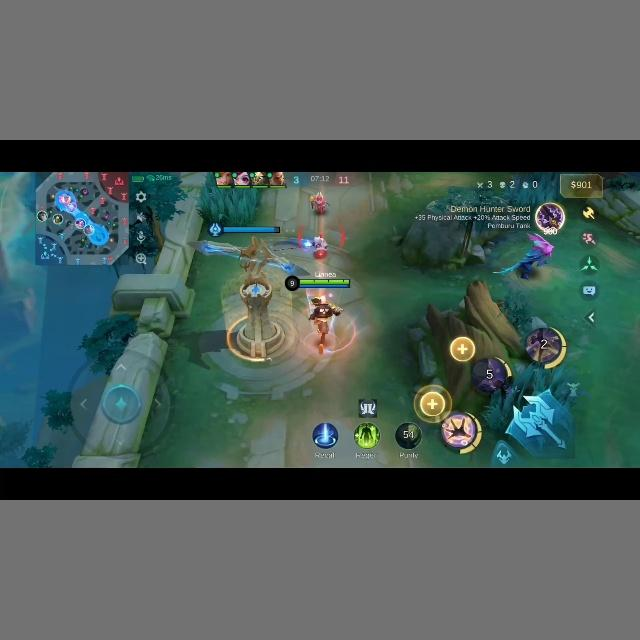hp_self: (222, 224, 284, 233), (299, 279, 351, 287)
minion_enemy: (307, 233, 329, 259), (309, 188, 330, 214)
turret_ally: (225, 269, 288, 356)
